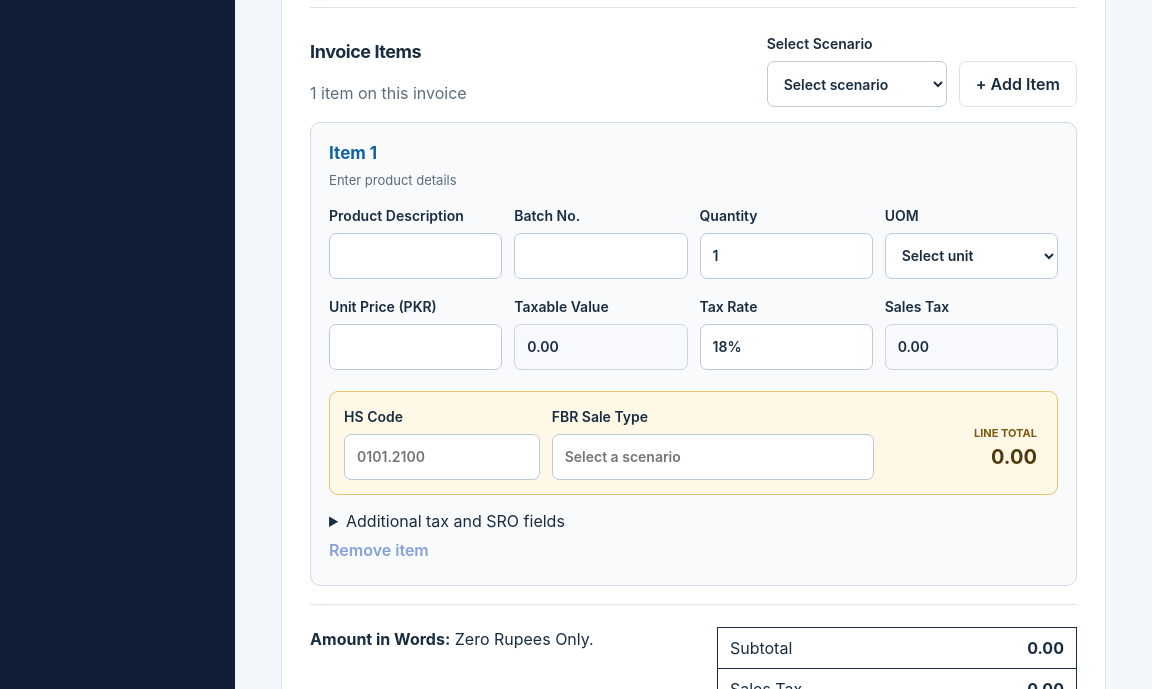
it: rate feedback follows invoice date without overwriting the entered tax or price
(page scrolled)
Type "100" into the number field labelled "Unit Price (PKR)" at [416, 346], box [329,324,502,370]
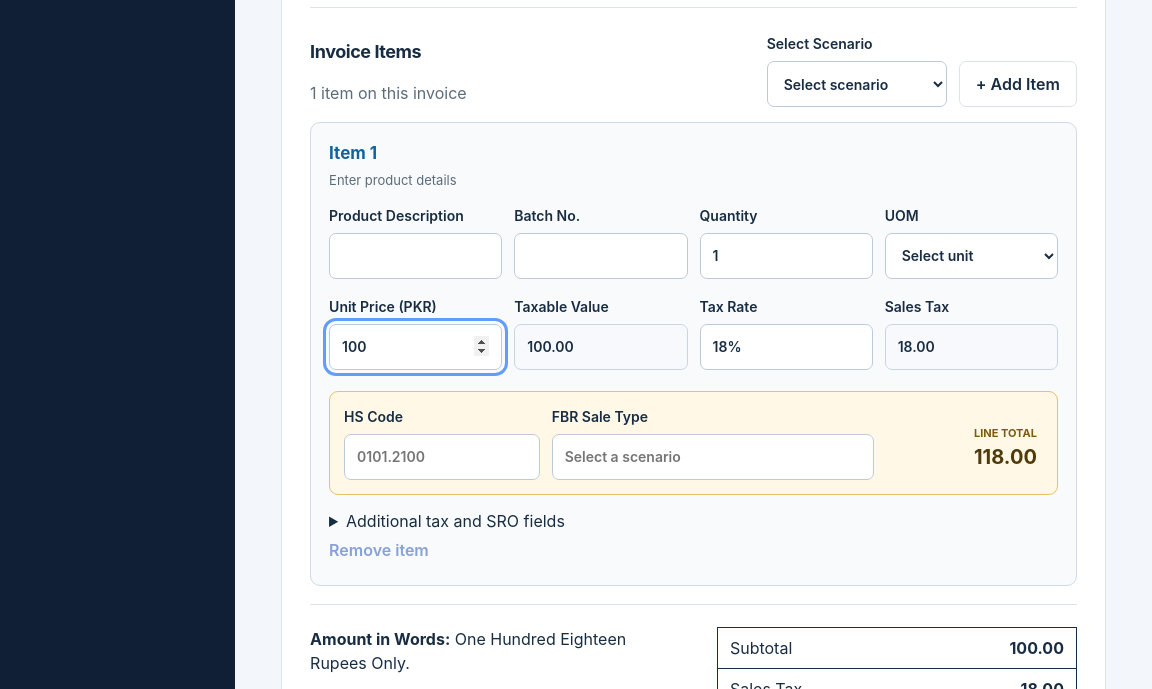
Type "8%" into the field labelled "Tax Rate" at [786, 346], box [700,324,873,370]
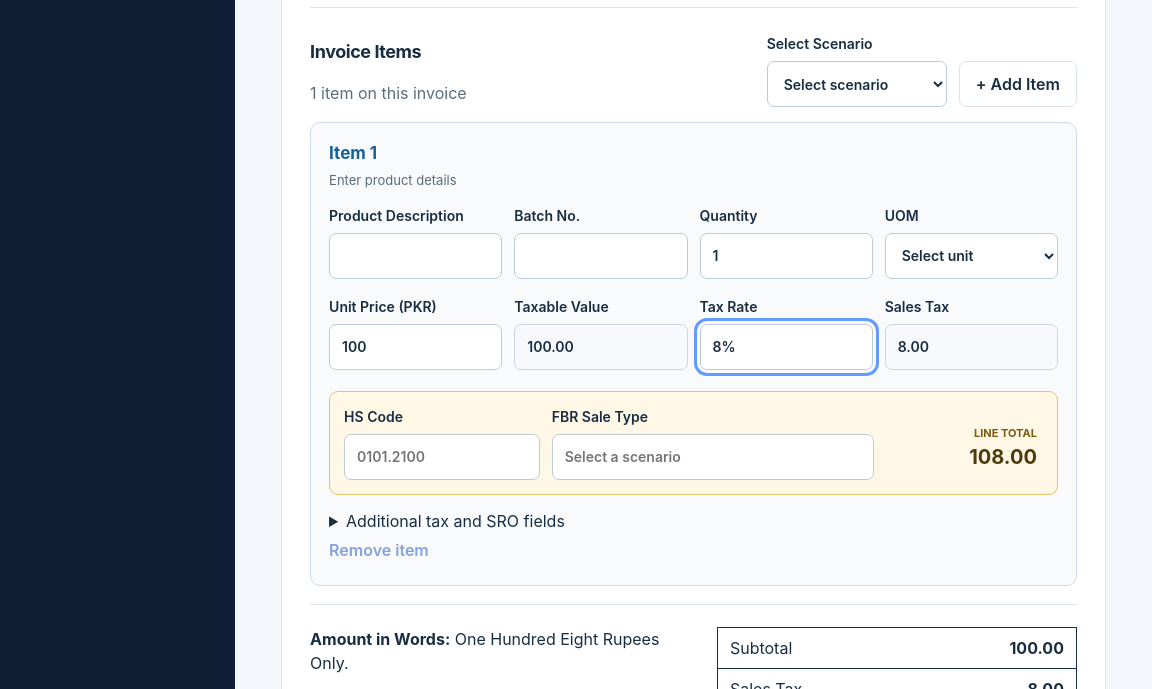
Select "SN017" in the dropdown labelled "Select Scenario" at [857, 84], box [767,61,947,107]
(page scrolled)
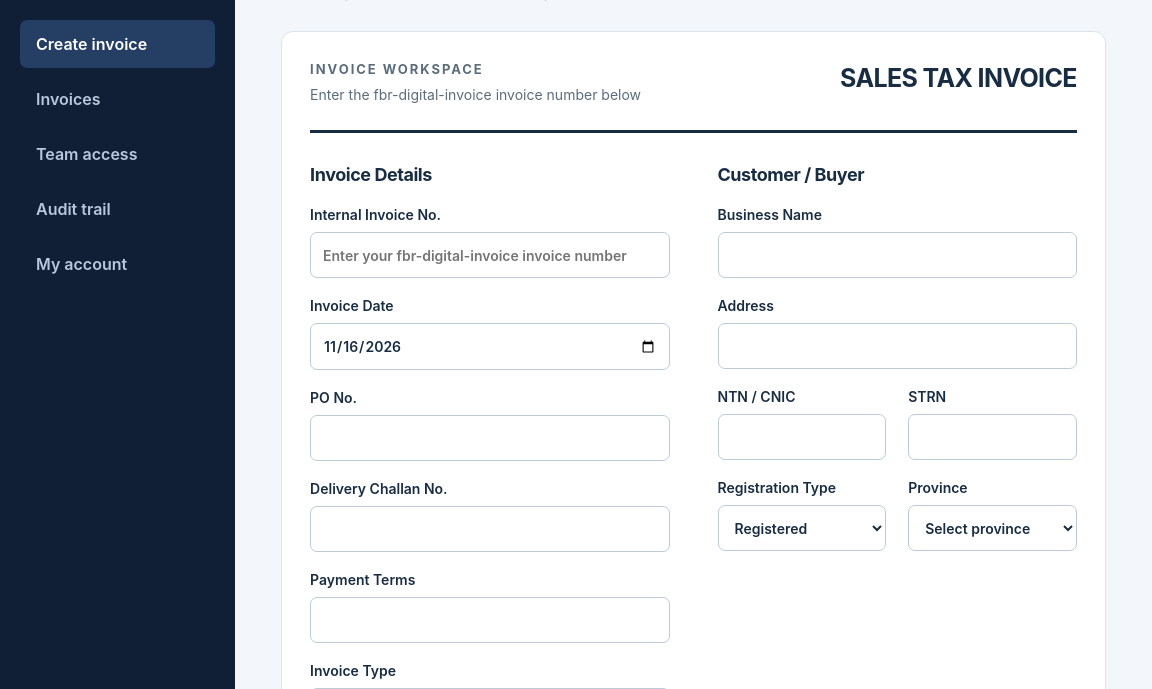
Type "2026-05-18" into the date field labelled "Invoice Date" at [490, 346], box [310,323,670,370]
(page scrolled)
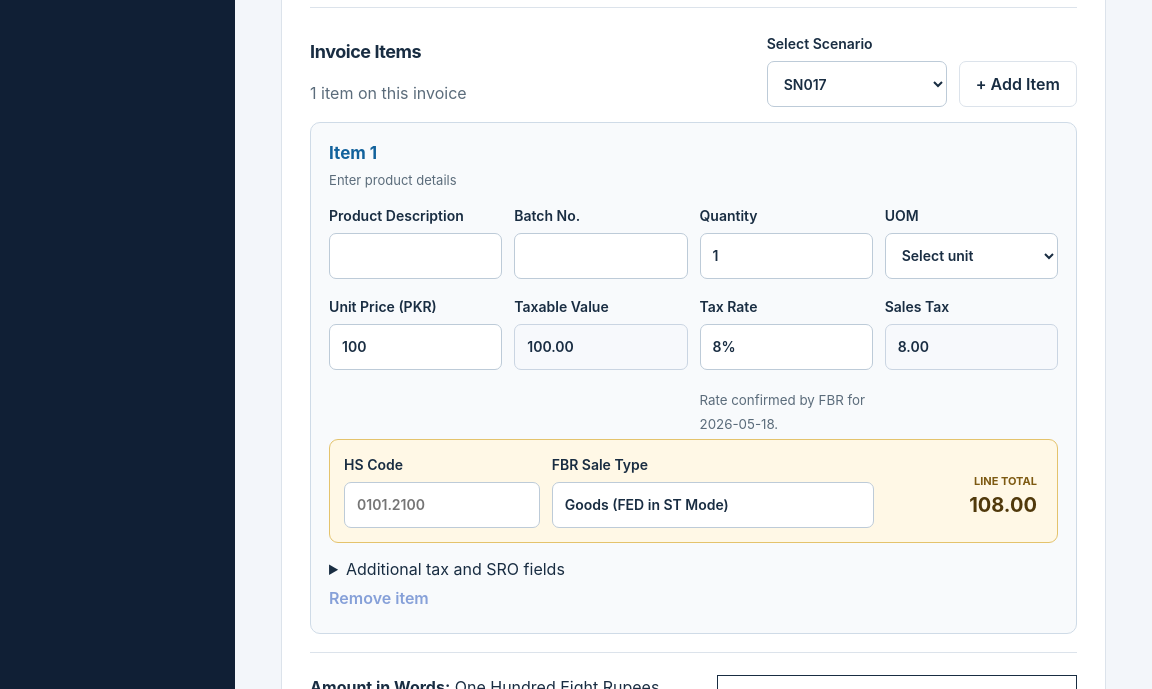
Expected: the text "Rate confirmed by FBR for 2026-05-18." is shown, [700,392,865,432]
